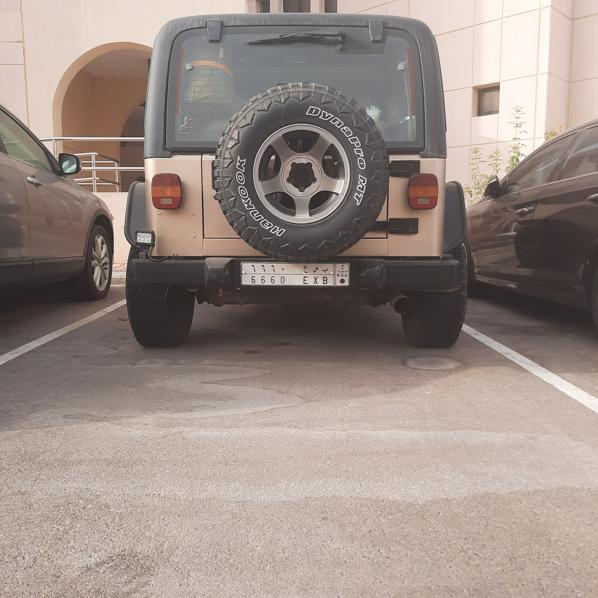numberplate: (240, 261, 350, 286)
